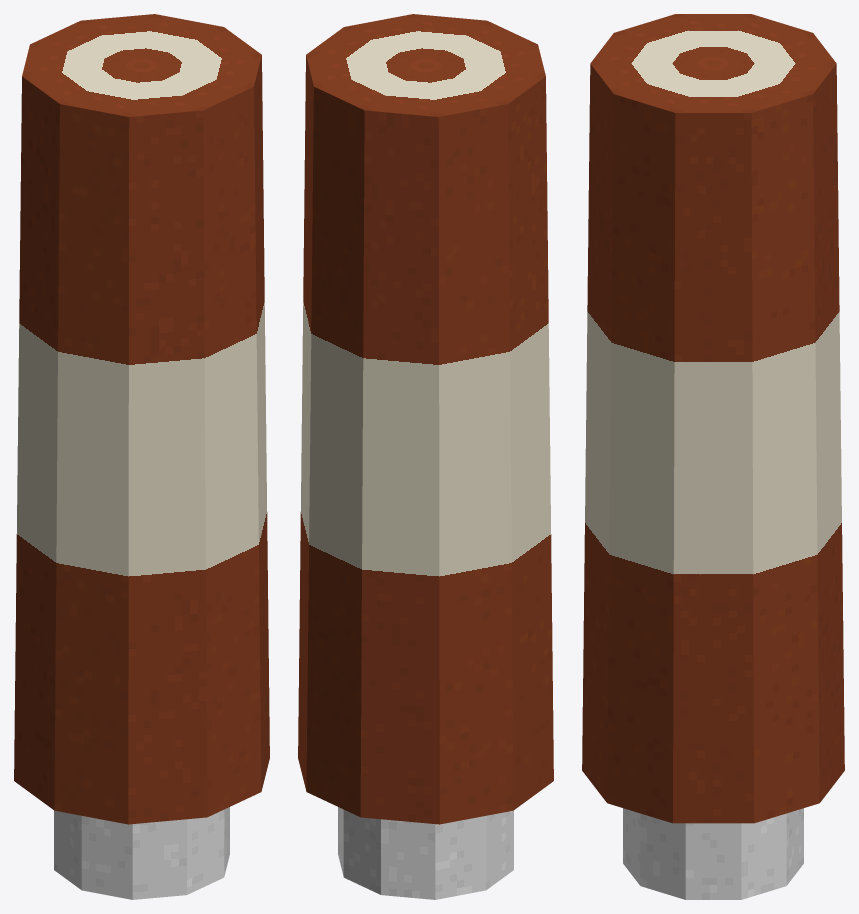
The model's file is condiment_bottle_sealed.glb.
3 renders of one model, left to right at view 1: azimuth 30°, elevation 25°; view 2: azimuth 150°, elevation 25°; view 3: azimuth 270°, elevation 25°, orthographic.
Visible parts, largest first — view 1: block_body, block_cap; view 2: block_body, block_cap; view 3: block_body, block_cap.
Boxes of the visible parts, <box> form: block_body: <box>14,14,269,824</box>; block_cap: <box>54,807,229,899</box>; block_body: <box>298,14,553,824</box>; block_cap: <box>338,807,513,899</box>; block_body: <box>582,14,844,823</box>; block_cap: <box>623,808,803,899</box>.
Bounding box in the file's own units: 0.0609 × 0.215 × 0.064.
1 material, 1 textured.
